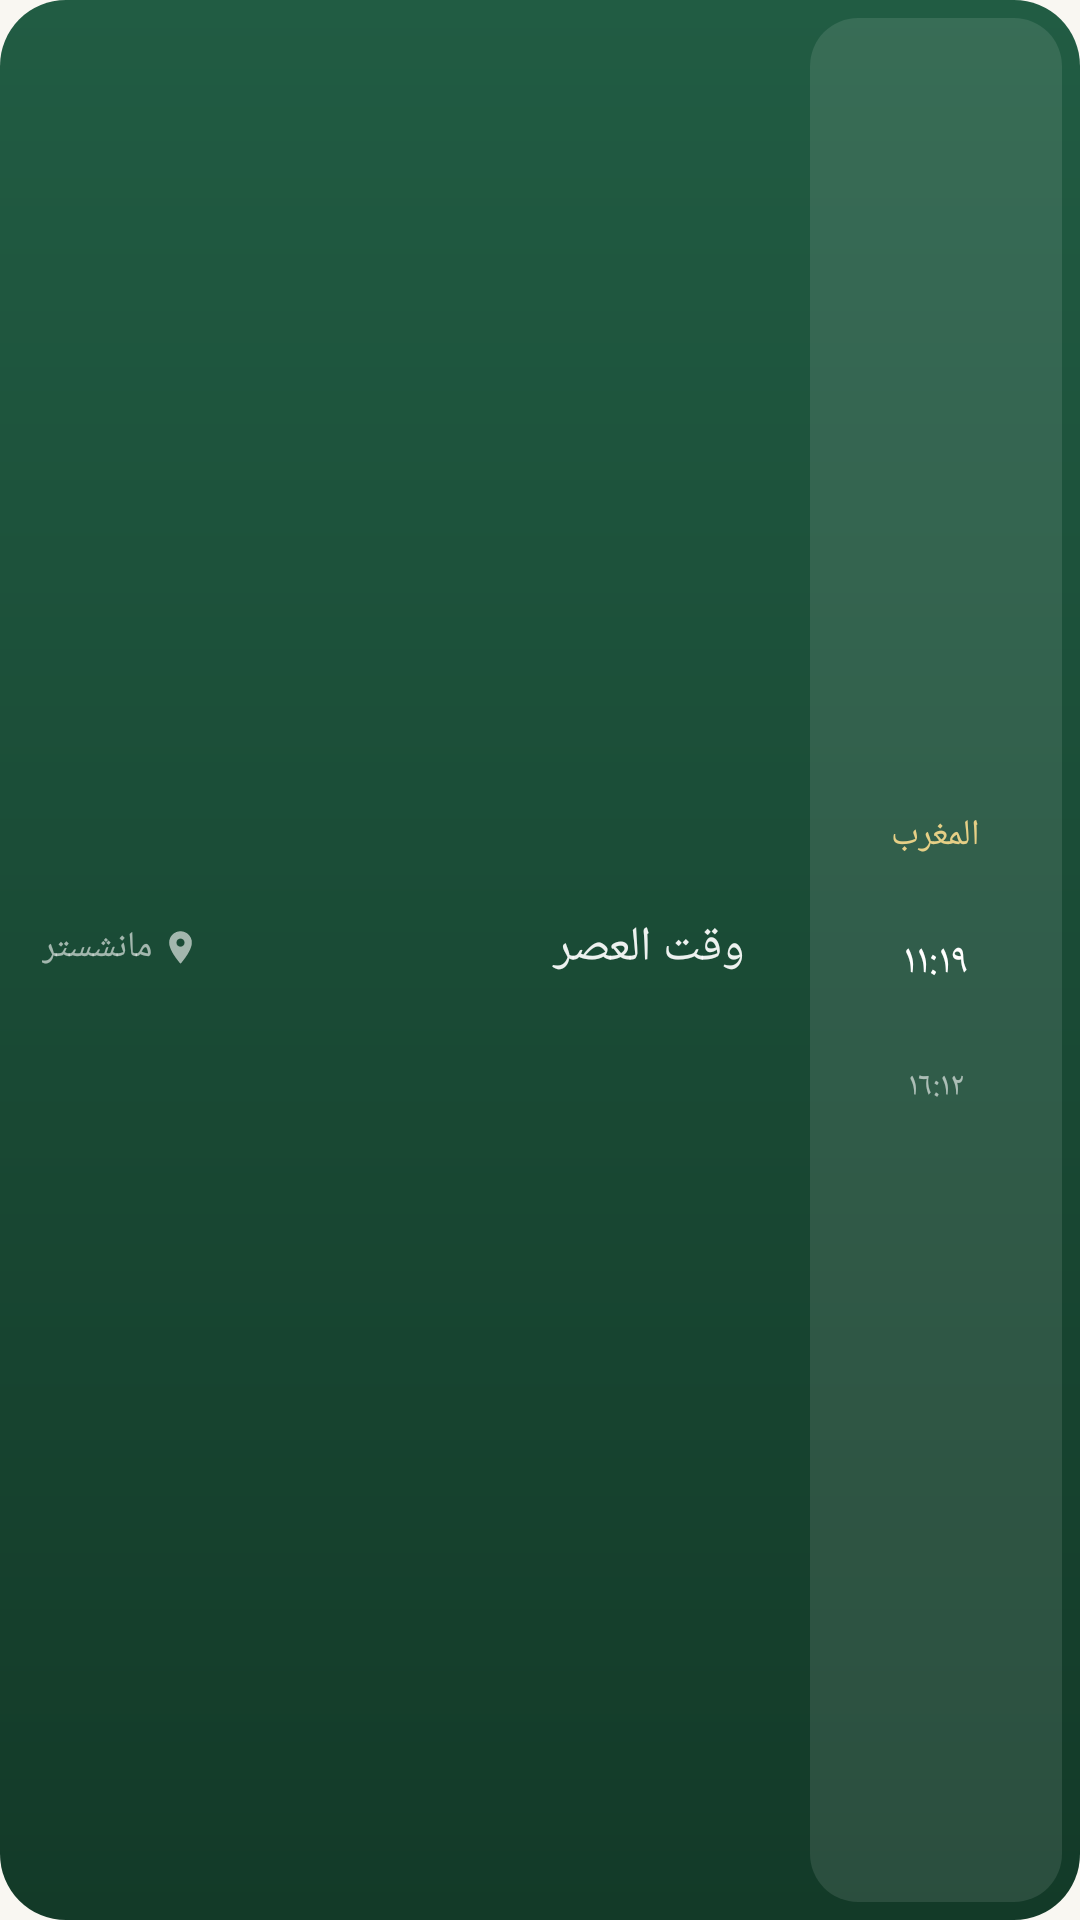

Locate icon controls on the screen. Image size 1080w x 1920h, boxes as (x1, y1, x2, y2).
widget pin: (169, 931, 192, 964)
